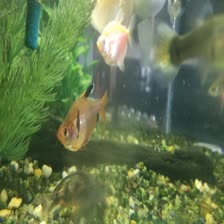Plano: (93, 11, 143, 70)
Transparente: (52, 90, 117, 154)
